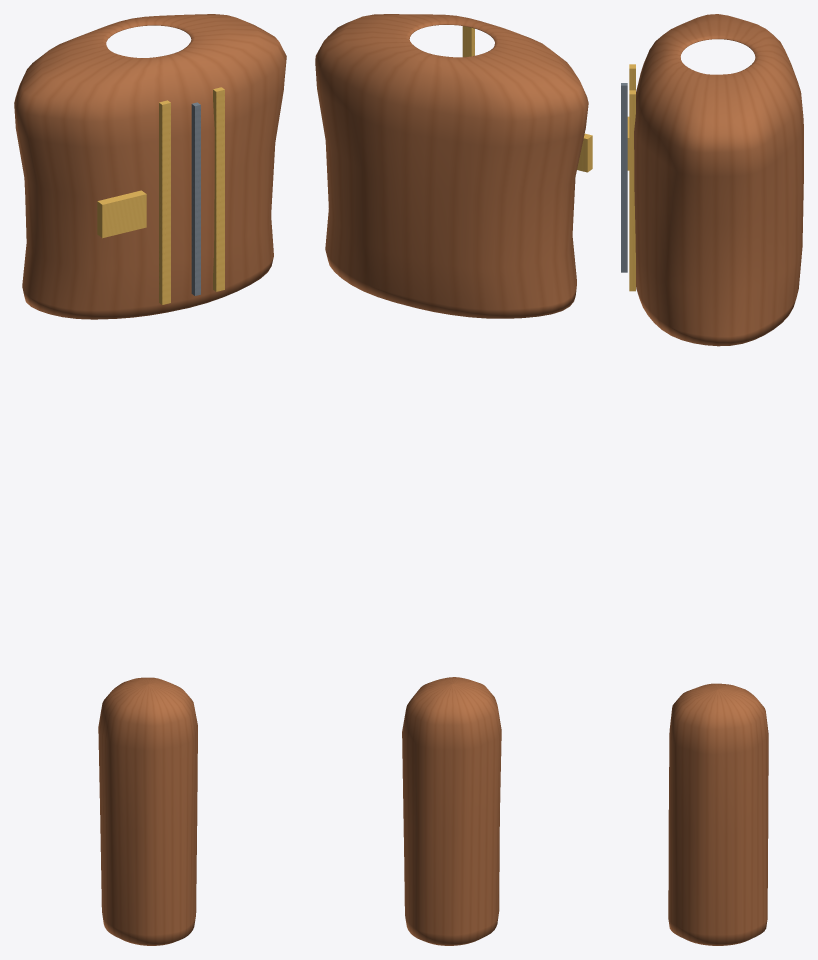
The model's file is field_jacket.gltf.
3 renders of one model, left to right at view 1: azimuth 30°, elevation 25°; view 2: azimuth 150°, elevation 25°; view 3: azimuth 270°, elevation 25°, orthographic.
Visible parts, largest first — view 1: Torso, SleeveL; view 2: Torso, SleeveL; view 3: Torso, SleeveL.
Part boxes in pixels (<box>): Torso: <box>14,14,286,319</box>; SleeveL: <box>98,677,197,945</box>; Torso: <box>315,14,592,318</box>; SleeveL: <box>402,677,501,945</box>; Torso: <box>621,14,803,346</box>; SleeveL: <box>668,683,768,945</box>.
Size of the model in its own units: 0.5276 by 1.73 by 0.3283.
3 materials, 3 textured.
